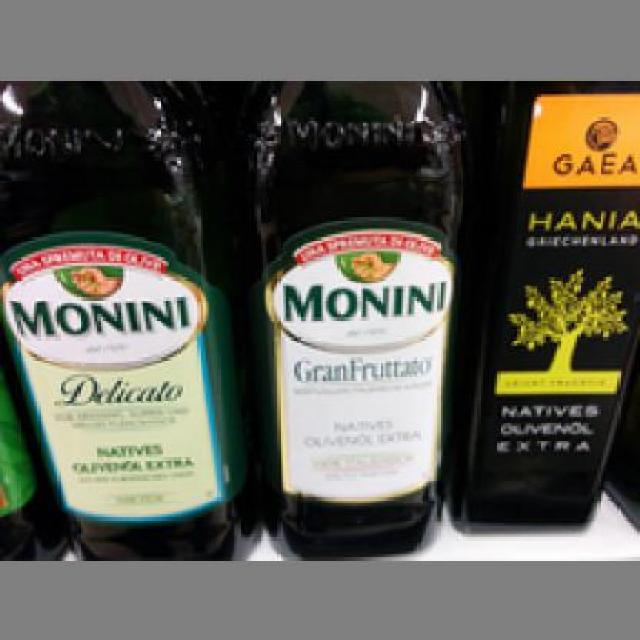Oil: (0, 82, 260, 555), (240, 77, 463, 554), (454, 76, 637, 532)
